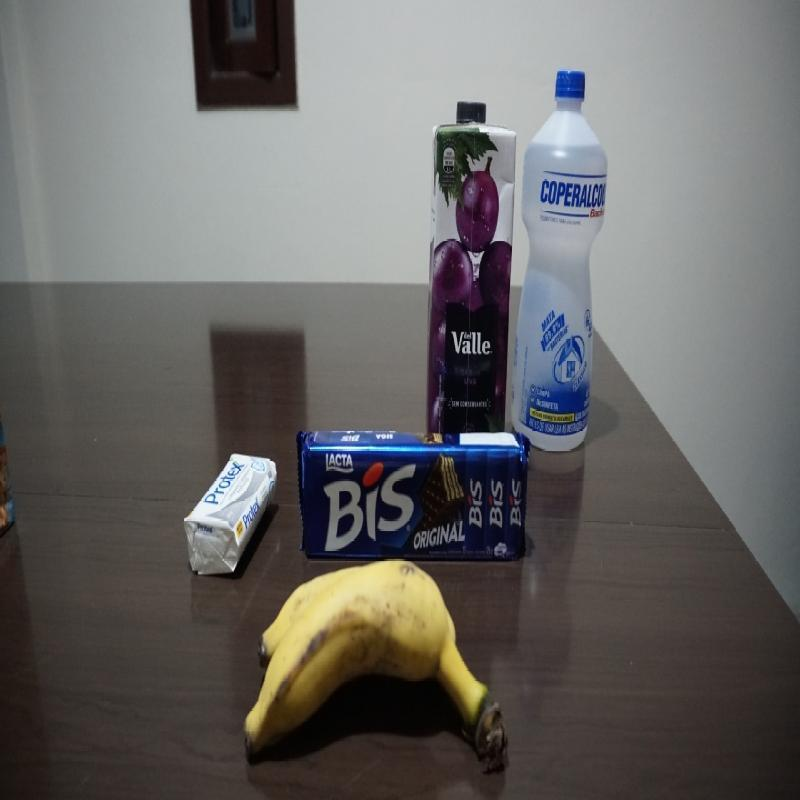Alcohol Bottle: (509, 65, 610, 460)
Banana: (241, 560, 510, 770)
Soap: (183, 453, 281, 574)
